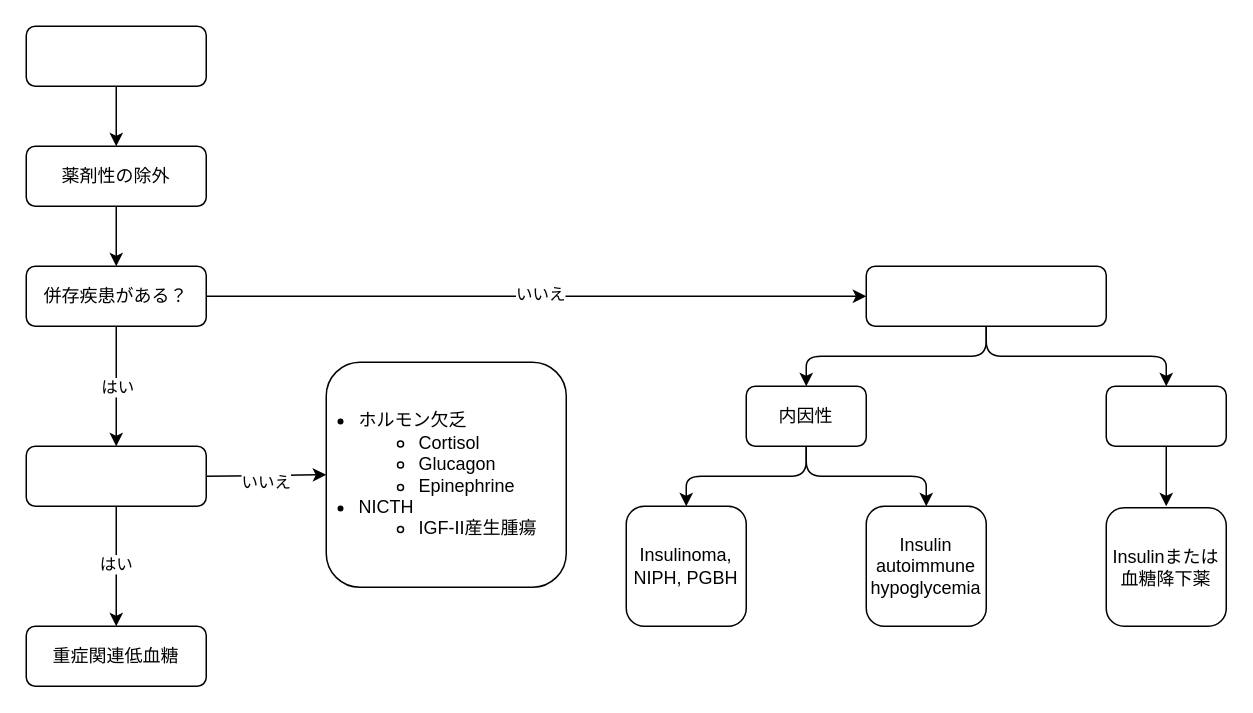
Image size: 1253x713. Some labels were removed from this diagram. The centre of each missing label's shape, as x and y in pixels:
低血糖負荷試験を考慮: [985,295]
外因性: [1165,415]
患者は重症？: [115,475]
有意な低血糖: [115,55]
